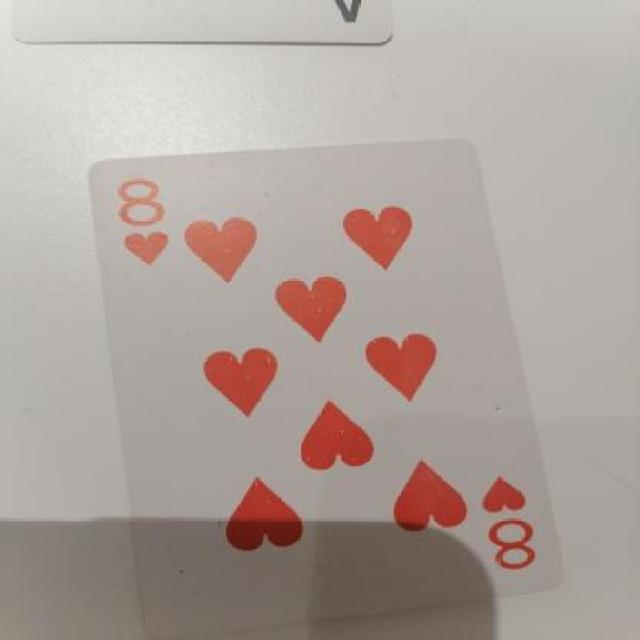8H: (457, 460, 557, 582), (114, 169, 191, 282)
